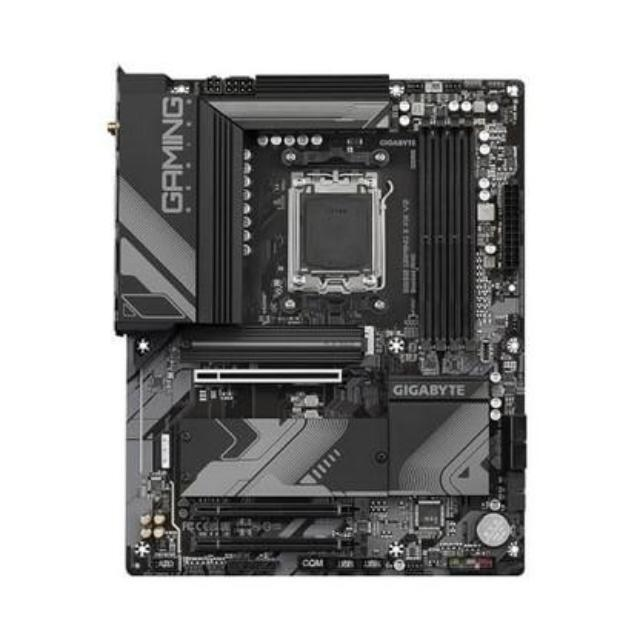Mainboard: (98, 67, 534, 595)
